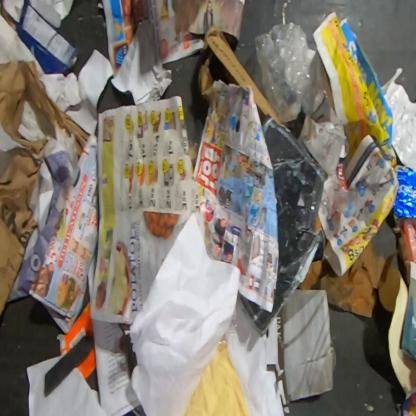cardboard: (296, 213, 401, 319), (197, 25, 293, 128), (0, 0, 78, 76)
metal: (393, 164, 415, 220)
rigid_plastic: (216, 308, 238, 352)
soft_plastic: (254, 16, 317, 123), (186, 120, 204, 174), (404, 217, 415, 268)
